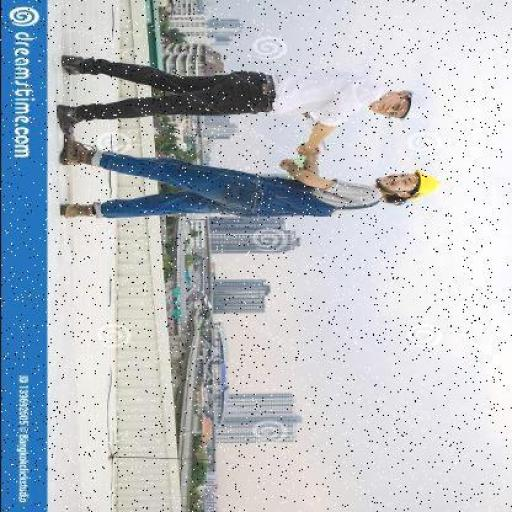person: (44, 36, 431, 151), (52, 137, 446, 240)
safety_shoe: (57, 136, 101, 170), (50, 104, 82, 135), (54, 198, 96, 218), (57, 54, 92, 76)
